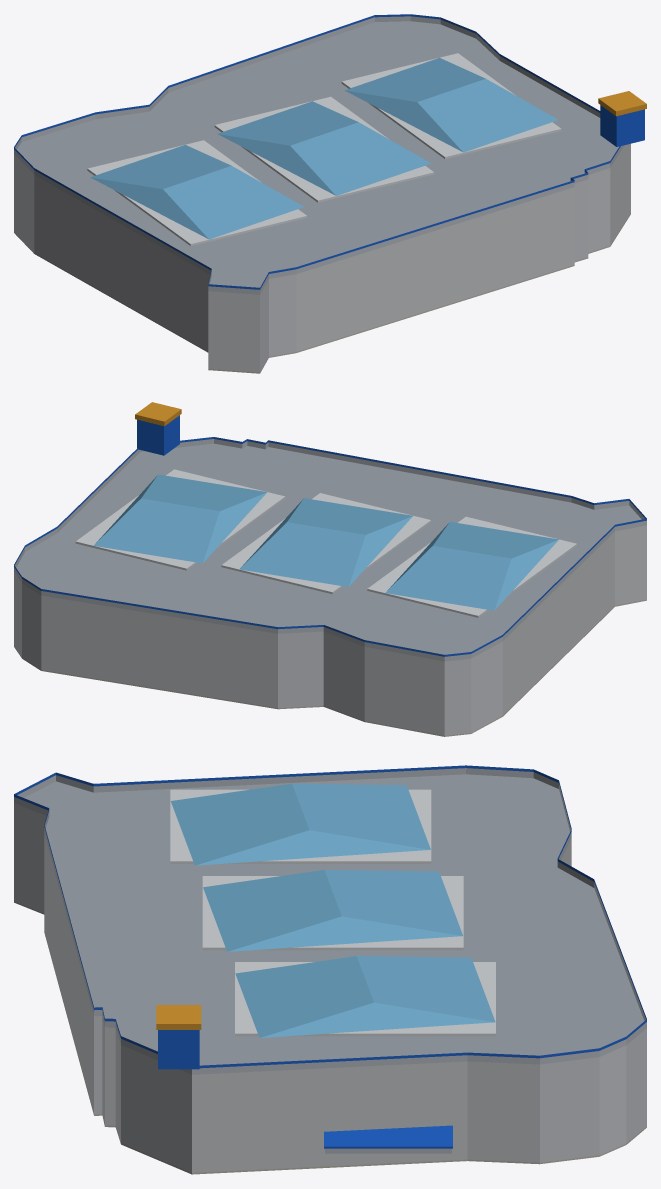
File: mal-ska-lod1.glb
3 views of the same model, one above another, from view 1: azimuth 30°, elevation 25°; view 2: azimuth 150°, elevation 25°; view 3: azimuth 270°, elevation 25° (orthographic). The views are drawn at different scales.
Visible parts, largest first — view 1: mal-ska_LOD1; view 2: mal-ska_LOD1; view 3: mal-ska_LOD1.
Part boxes in pixels (x1,y1,x2,y2): mal-ska_LOD1: (14,14,646,373); mal-ska_LOD1: (14,402,646,736); mal-ska_LOD1: (14,765,646,1174).
Size of the model in its own units: 150 by 34.3 by 130.
